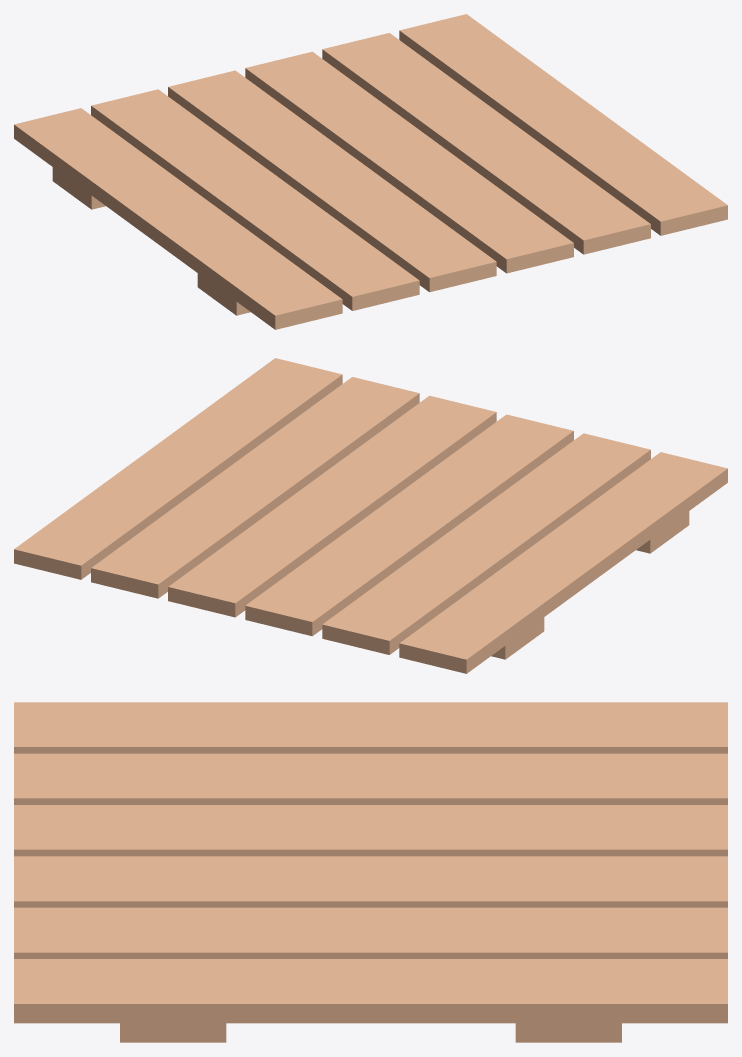
The model's file is planks.glb.
3 renders of one model, top to bottom at view 1: azimuth 30°, elevation 25°; view 2: azimuth 150°, elevation 25°; view 3: azimuth 270°, elevation 25°, orthographic. The views are drawn at different scales.
Parts seen in each view (by area): view 1: planks; view 2: planks; view 3: planks.
Part boxes in pixels (left/top/right/bottom): planks: left=14, top=14, right=727, bottom=329; planks: left=14, top=358, right=727, bottom=673; planks: left=14, top=702, right=727, bottom=1042.
Size of the model in its own units: 1 by 0.06 by 1.
